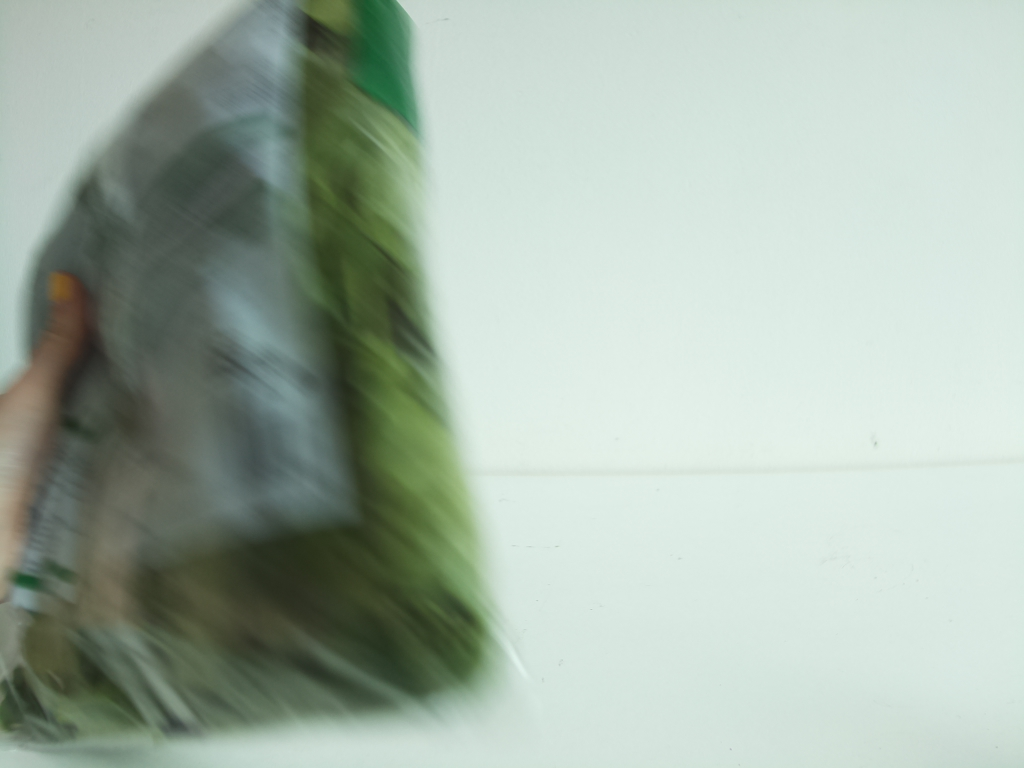salad: (22, 1, 498, 745)
